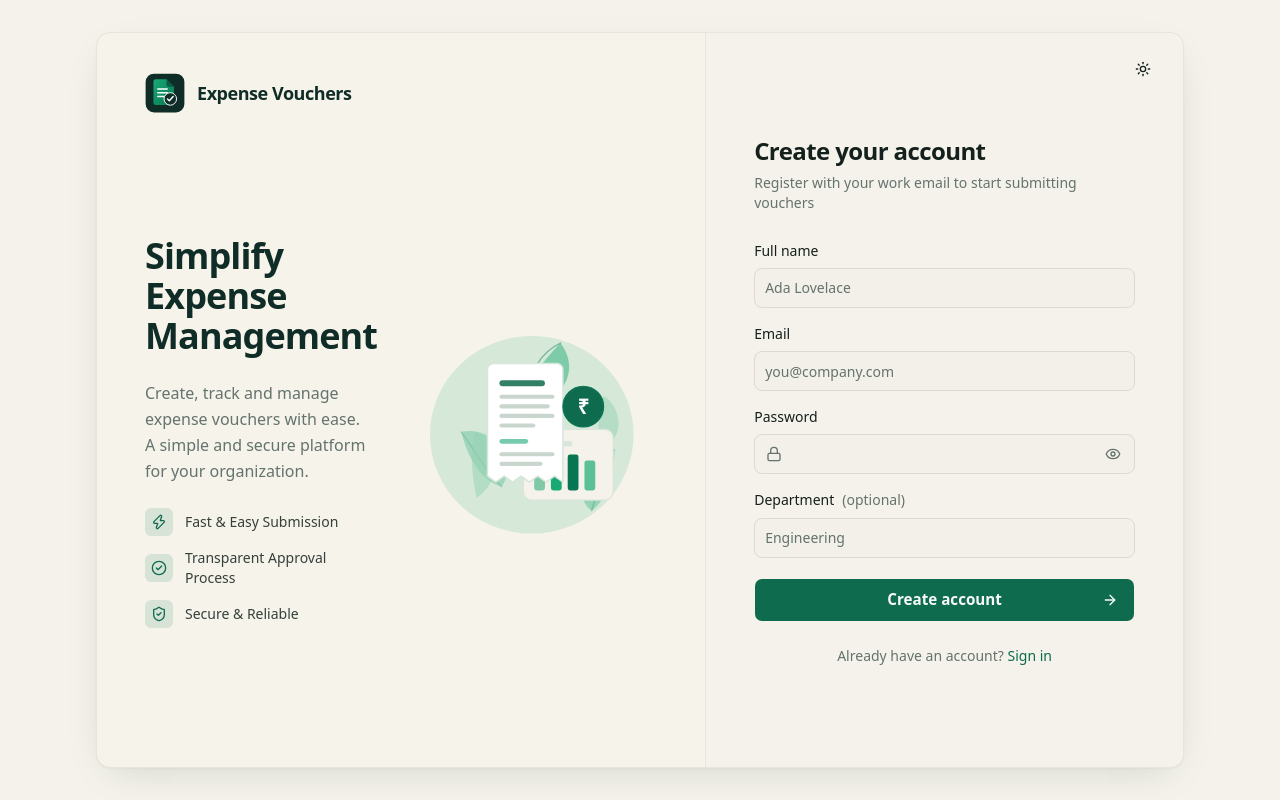
signup page › validates required fields before submitting
Click the button "Create account" at [945, 600], box [754, 578, 1135, 622]
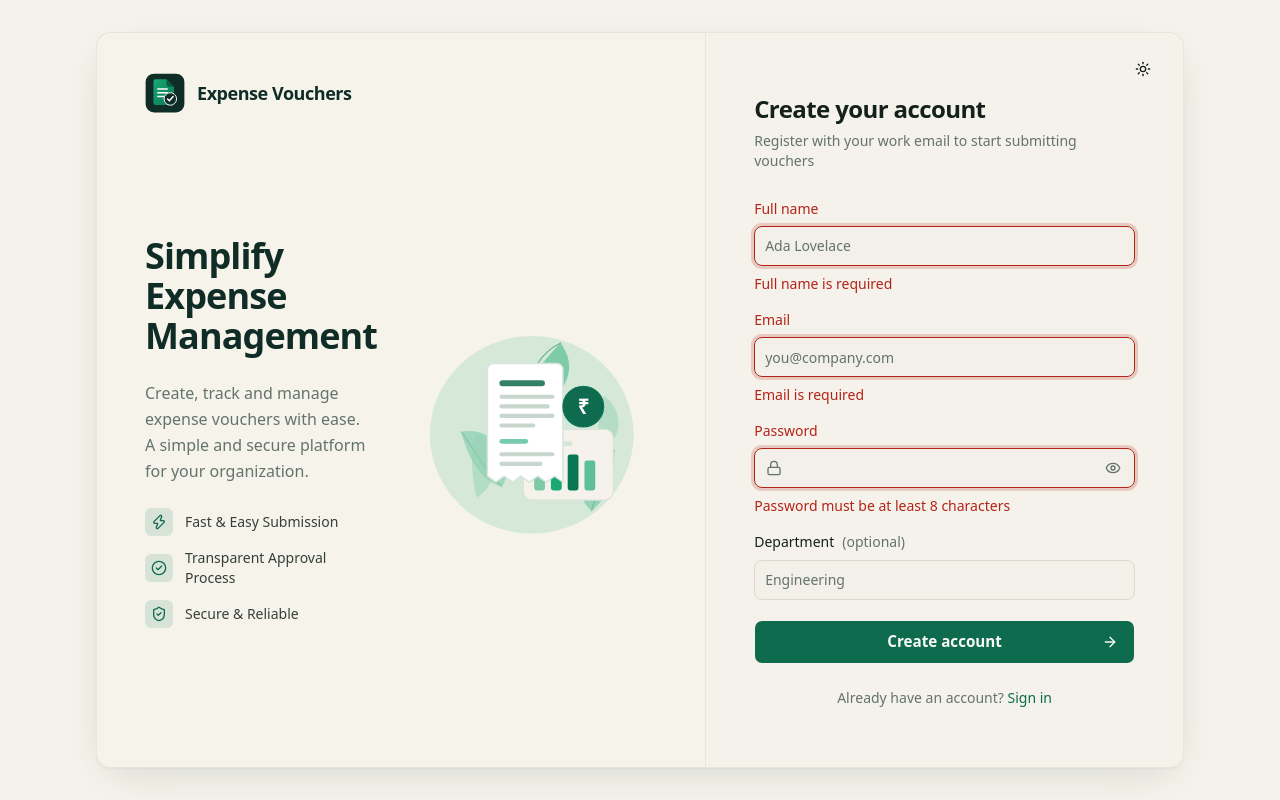
Expected: the text "Full name is required" is shown, [754, 274, 892, 293]
Expected: the text "Email is required" is shown, [754, 385, 864, 404]
